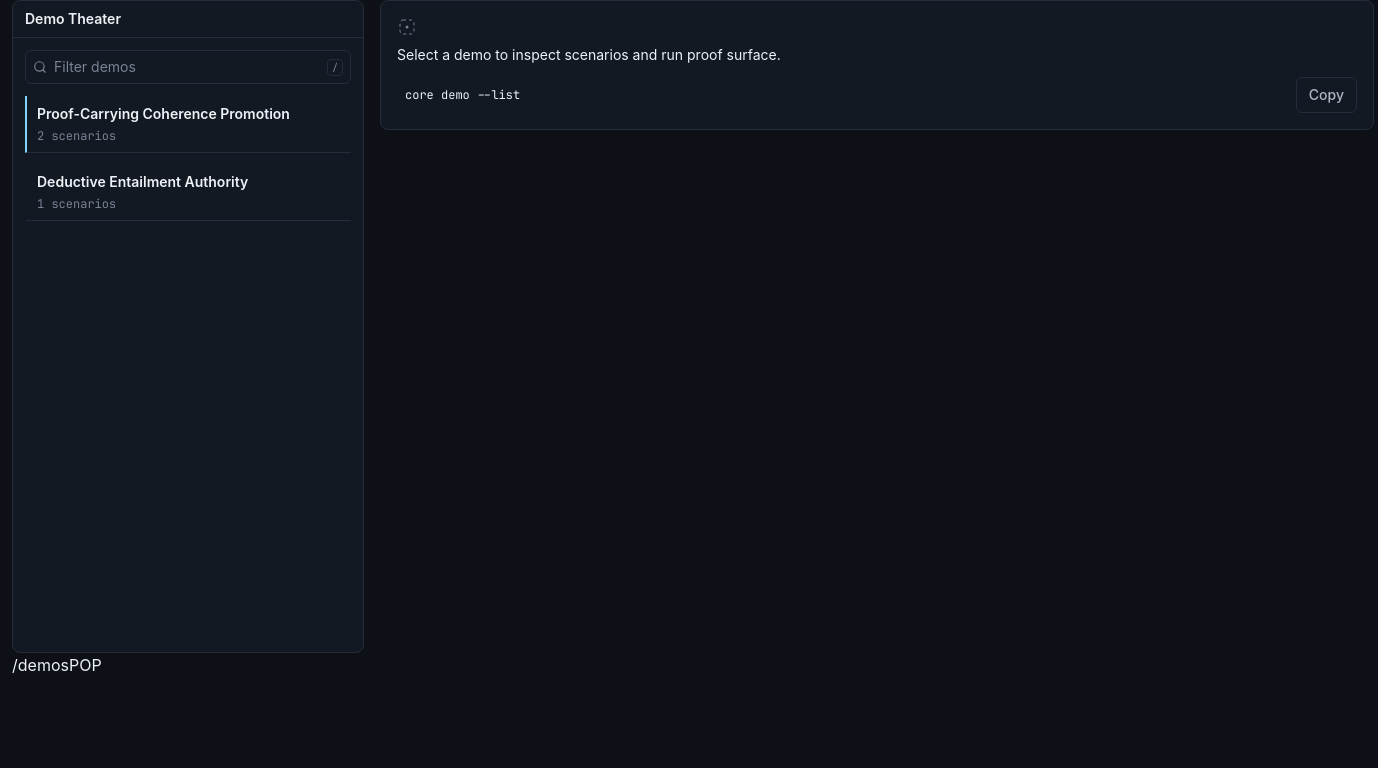
Test: DemoTheaterRoute › lists registered demos and selects via replace navigation
What coordinates should you click on to do the following:
click the text "Deductive Entailment Authority"
I would click on:
 (143, 182)
Its box is [37,172,248,192].
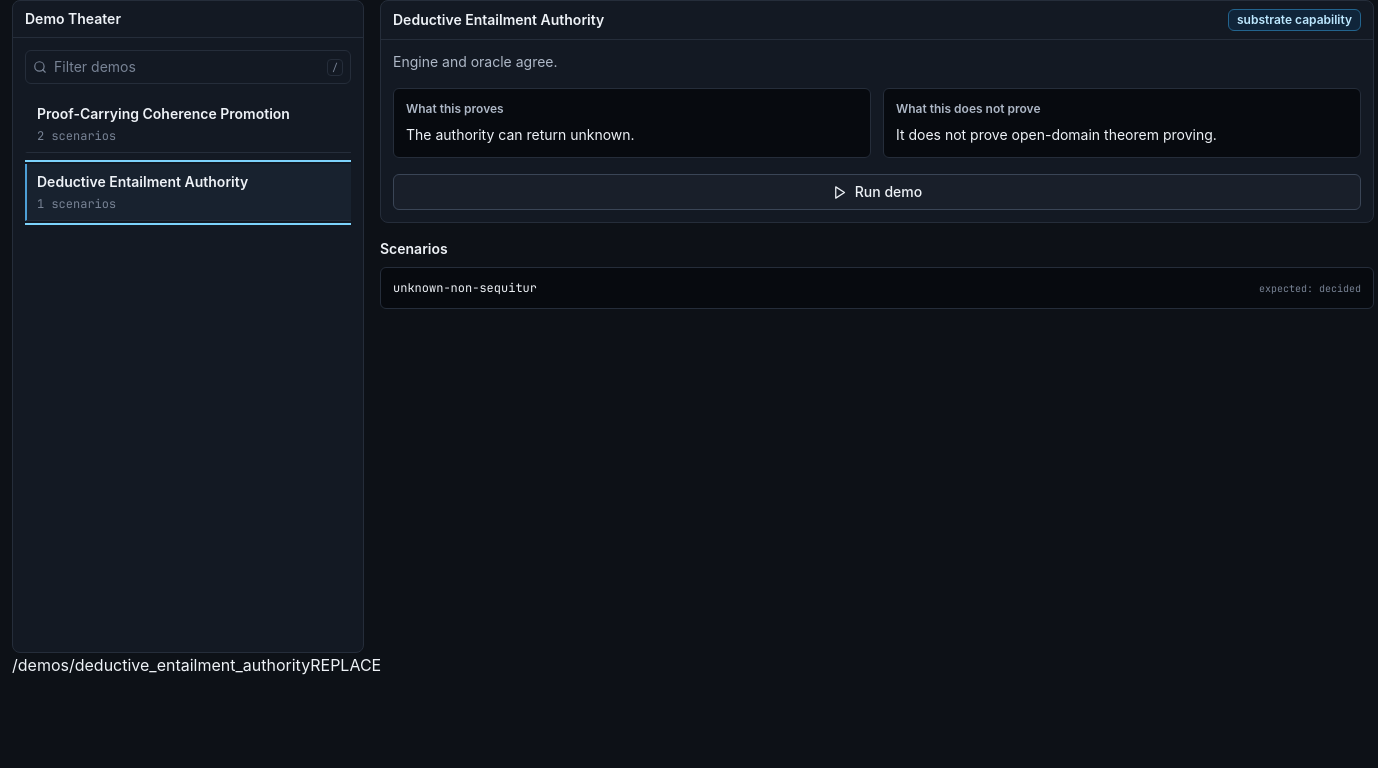
Now the text with test id "location" reads "/demos/deductive_entailment_authority", box [12,655,310,675]
Now the text with test id "nav-type" reads "REPLACE", box [310,655,381,675]
